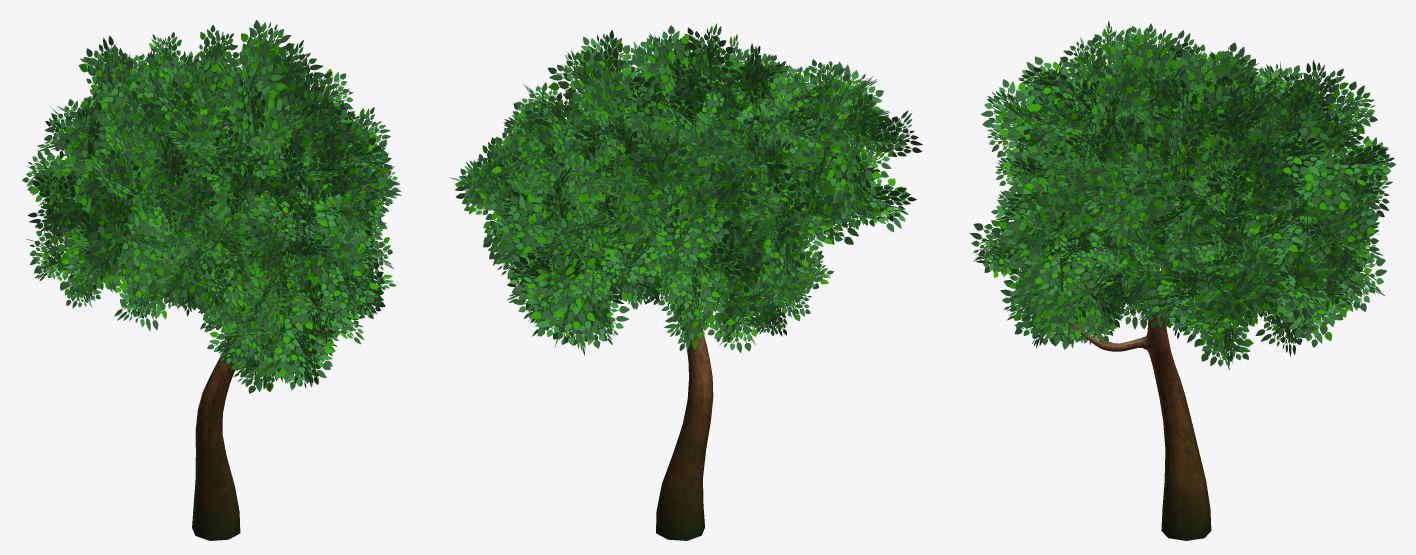
Rendered from TreeNormal.fbx.
3 views of the same model, side by side, from view 1: azimuth 30°, elevation 25°; view 2: azimuth 150°, elevation 25°; view 3: azimuth 270°, elevation 25° (orthographic).
Visible parts, largest first — view 1: TreeNormal_LOD00; view 2: TreeNormal_LOD00; view 3: TreeNormal_LOD00.
Part boxes in pixels (x1,y1,x2,y2): TreeNormal_LOD00: [22, 20, 401, 540]; TreeNormal_LOD00: [450, 23, 922, 540]; TreeNormal_LOD00: [970, 21, 1395, 540].
Size of what is drawn, in the model's own units: 985 by 1221 by 1002.
